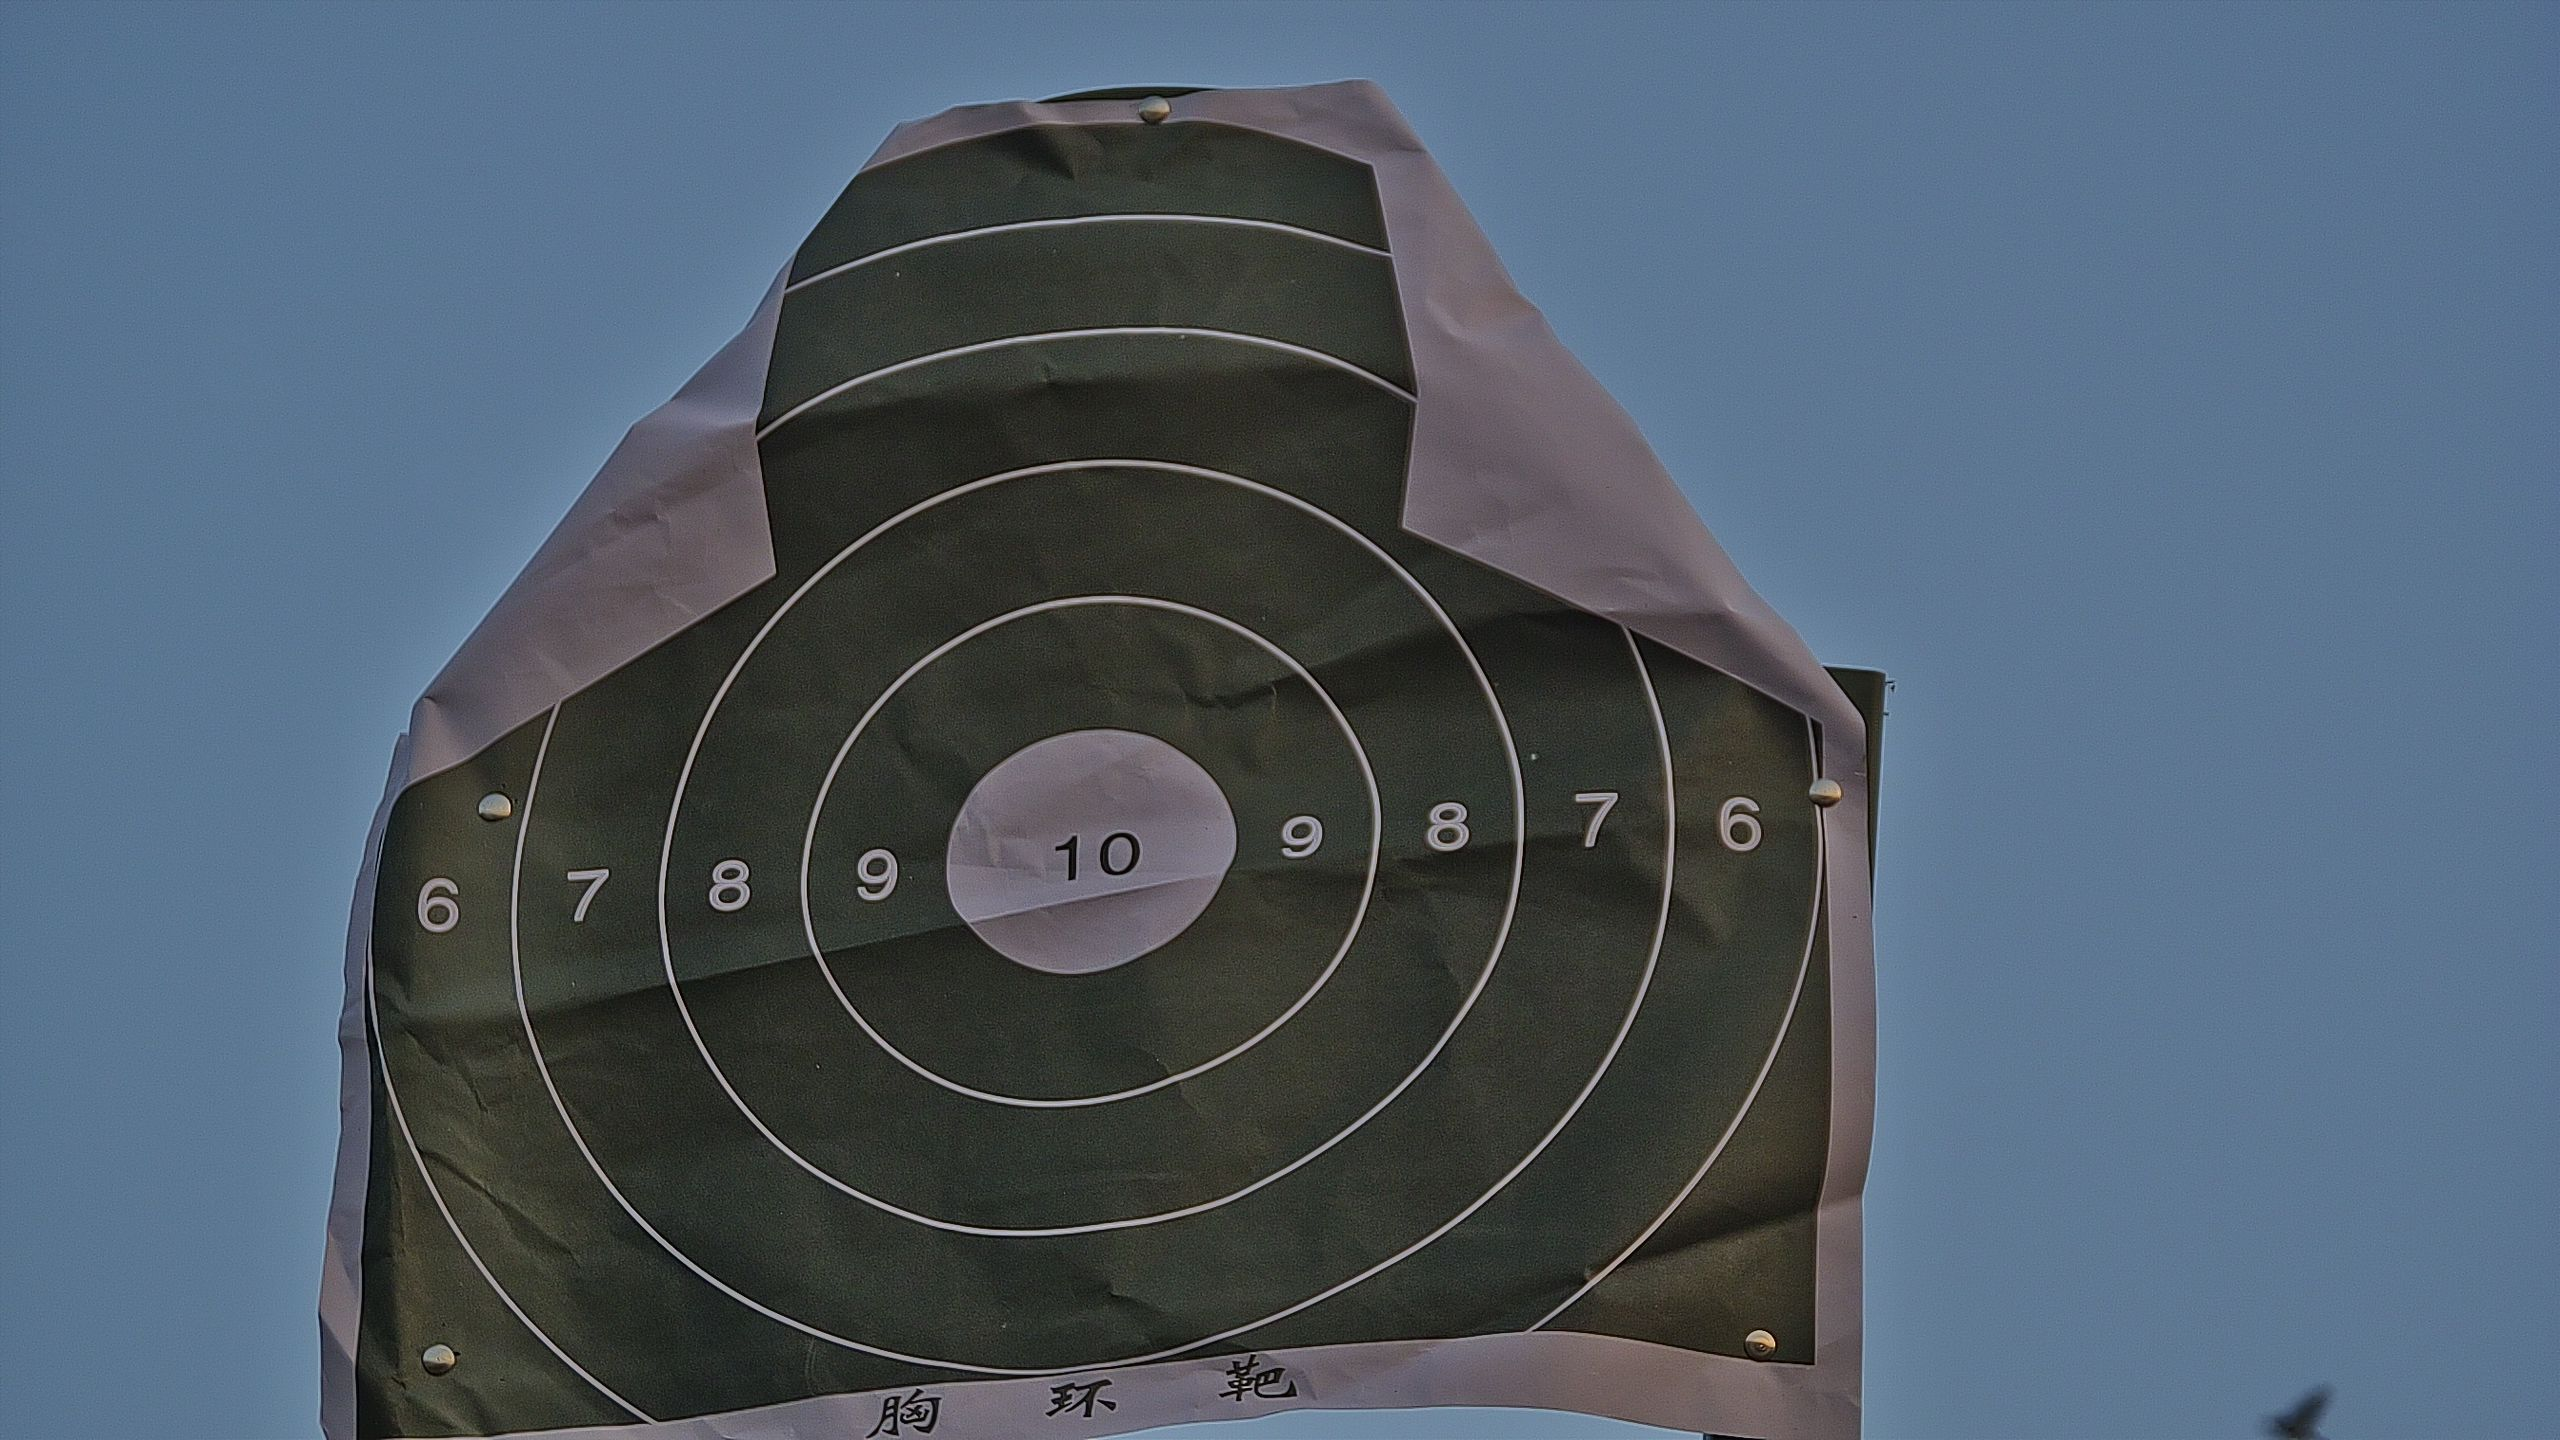kernel: (1088, 862, 1090, 863)
target: (353, 121, 1837, 1440)
ten: (944, 724, 1245, 983)
